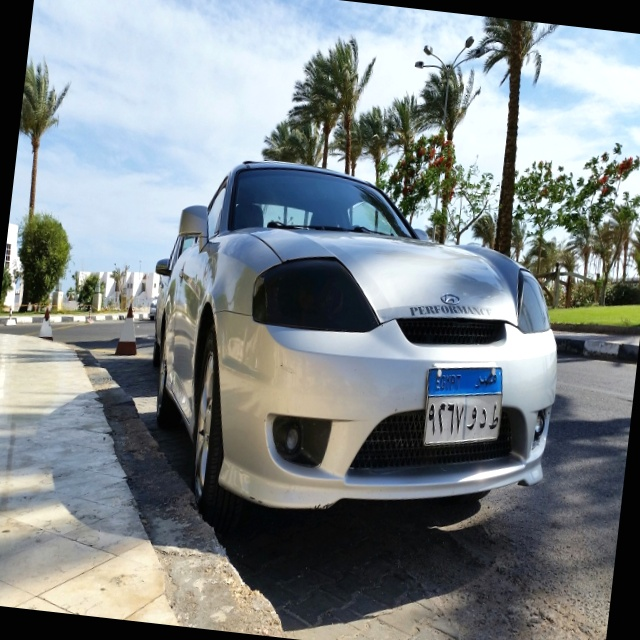License Plate: (418, 357, 508, 456)
